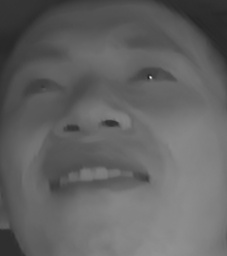eye: (123, 61, 177, 94), (18, 75, 66, 103)
mouth: (38, 145, 159, 206)
